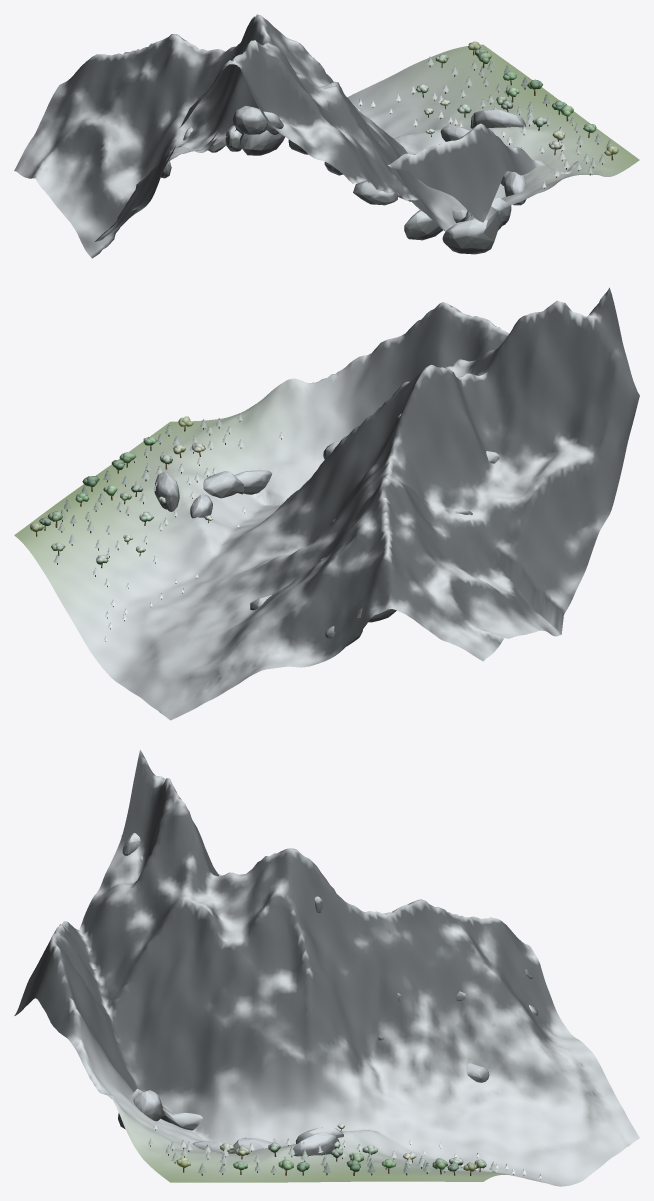
3 renders of one model, top to bottom at view 1: azimuth 30°, elevation 25°; view 2: azimuth 150°, elevation 25°; view 3: azimuth 270°, elevation 25°, orthographic.
Parts seen in each view (by area): view 1: terrain_v10, supported_bedrock, ecotone_broadleaf_canopy, ecotone_conifer_canopy; view 2: terrain_v10, supported_bedrock, ecotone_conifer_canopy, ecotone_broadleaf_canopy; view 3: terrain_v10, supported_bedrock, ecotone_broadleaf_canopy, ecotone_conifer_canopy.
Part boxes in pixels (x1,y1,x2,y2): terrain_v10: (14, 14, 639, 258); supported_bedrock: (161, 106, 526, 254); ecotone_broadleaf_canopy: (416, 41, 618, 155); ecotone_conifer_canopy: (358, 56, 612, 187); terrain_v10: (14, 287, 639, 720); supported_bedrock: (154, 413, 499, 646); ecotone_conifer_canopy: (53, 413, 283, 640); ecotone_broadleaf_canopy: (30, 416, 212, 564); terrain_v10: (14, 750, 639, 1186); supported_bedrock: (118, 833, 537, 1156); ecotone_broadleaf_canopy: (176, 1123, 486, 1172); ecotone_conifer_canopy: (148, 1123, 541, 1178).
Bounding box in the file's own units: 4330 × 2621 × 5000.
Materials: 6 (2 with a texture image).
